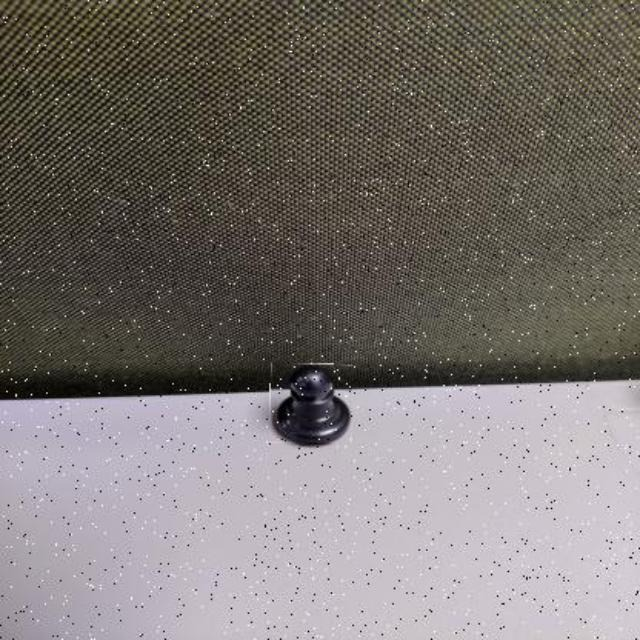black-pawn: (270, 364, 354, 445)
